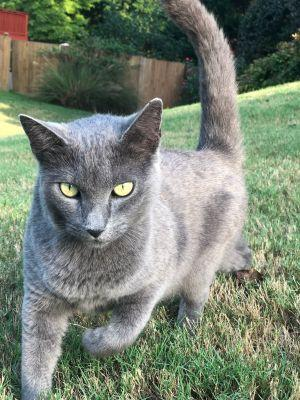rblue: (9, 85, 184, 284)
